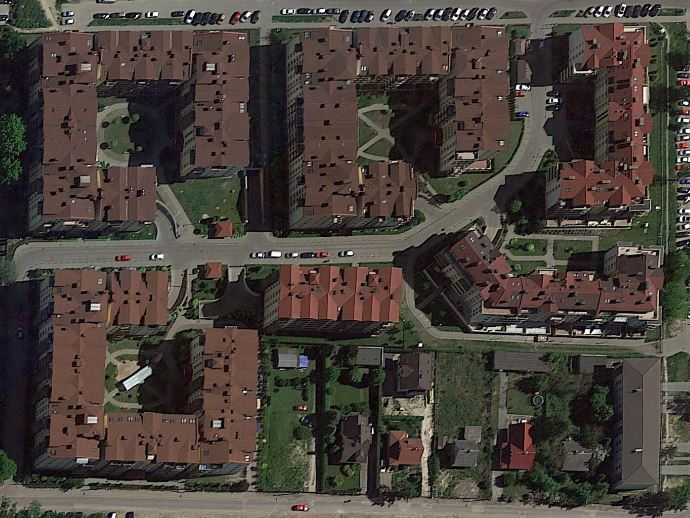block of flats: (274, 20, 521, 238), (26, 261, 262, 482), (20, 20, 254, 239), (424, 213, 669, 336), (538, 15, 660, 227), (255, 257, 407, 333)
family house: (493, 414, 549, 472), (392, 347, 441, 400), (551, 429, 605, 474), (336, 407, 374, 469), (384, 425, 435, 468), (442, 421, 484, 472), (348, 342, 386, 373)
garage: (487, 345, 555, 377), (567, 348, 613, 377), (271, 344, 312, 376)
